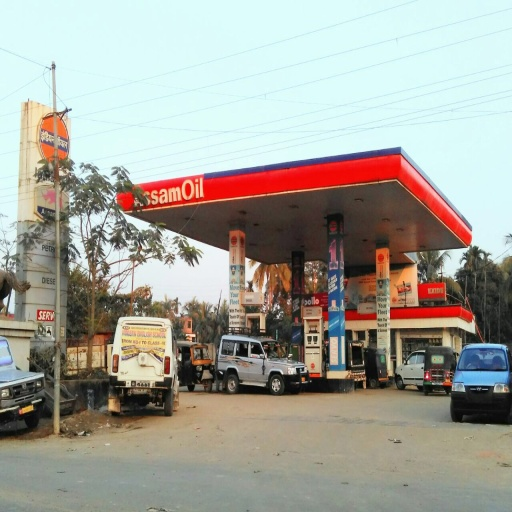roof: (117, 148, 471, 261)
